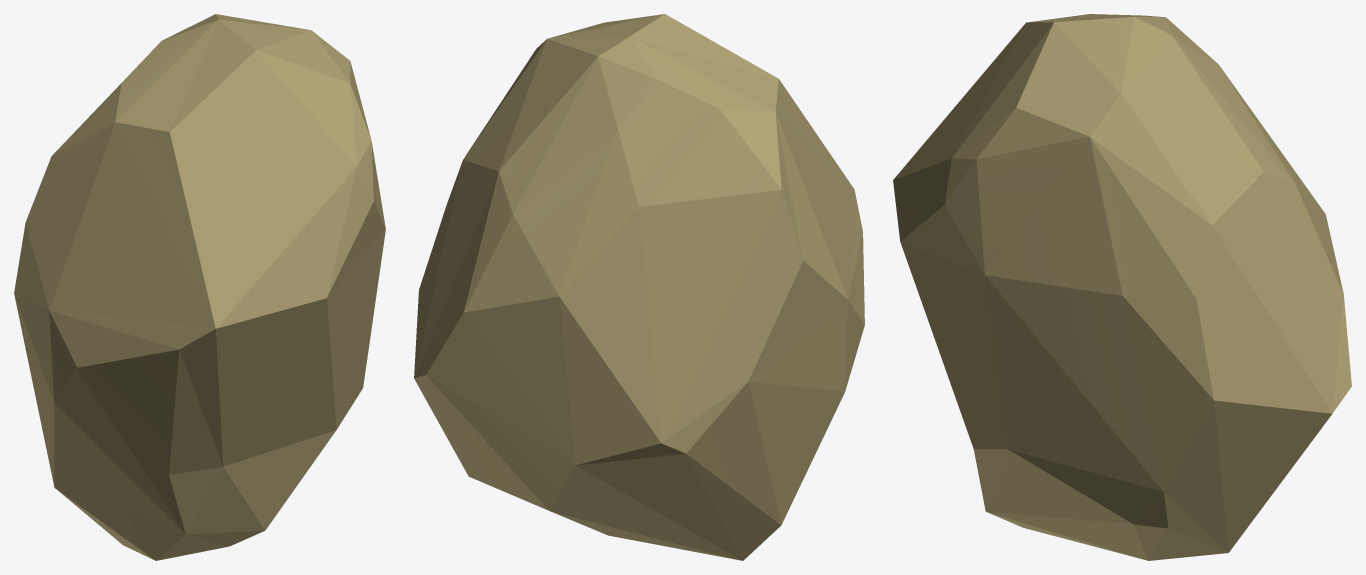
The model's file is SM_small_rock_52.fbx.
3 renders of one model, left to right at view 1: azimuth 30°, elevation 25°; view 2: azimuth 150°, elevation 25°; view 3: azimuth 270°, elevation 25°, orthographic. The views are drawn at different scales.
Parts seen in each view (by area): view 1: small_rock_52; view 2: small_rock_52; view 3: small_rock_52.
Boxes of the visible parts, x1,y1,x2,y2 form: small_rock_52: [14, 14, 385, 560]; small_rock_52: [414, 14, 864, 560]; small_rock_52: [893, 14, 1351, 560].
Bounding box in the file's own units: 106 × 138 × 105.
